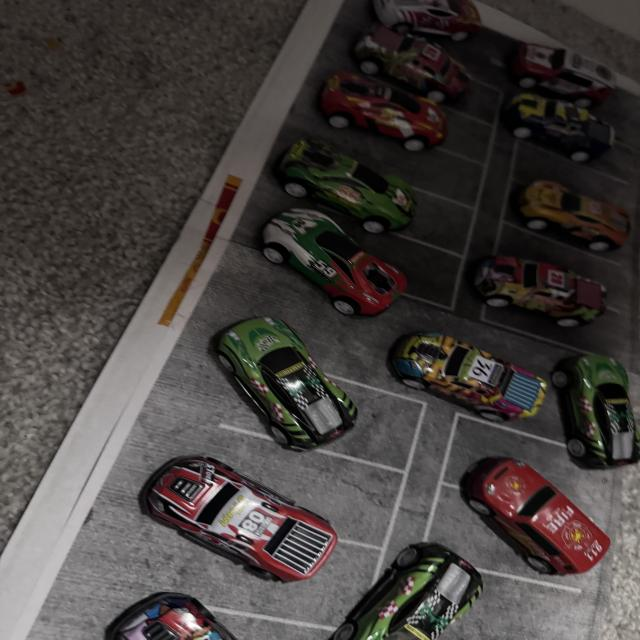Car: (136, 420, 353, 573), (249, 123, 434, 244), (285, 8, 484, 114), (258, 194, 422, 317), (449, 464, 608, 589), (351, 522, 484, 640), (363, 332, 521, 424), (541, 345, 640, 484), (491, 163, 640, 253), (483, 248, 610, 323), (324, 78, 449, 152), (511, 25, 624, 94), (375, 0, 505, 59), (474, 96, 623, 142), (100, 587, 229, 640)
